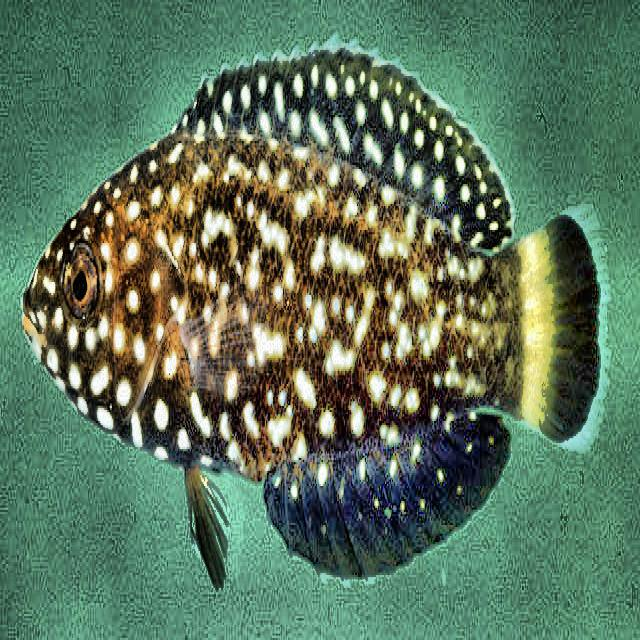fish: (21, 39, 612, 594)
